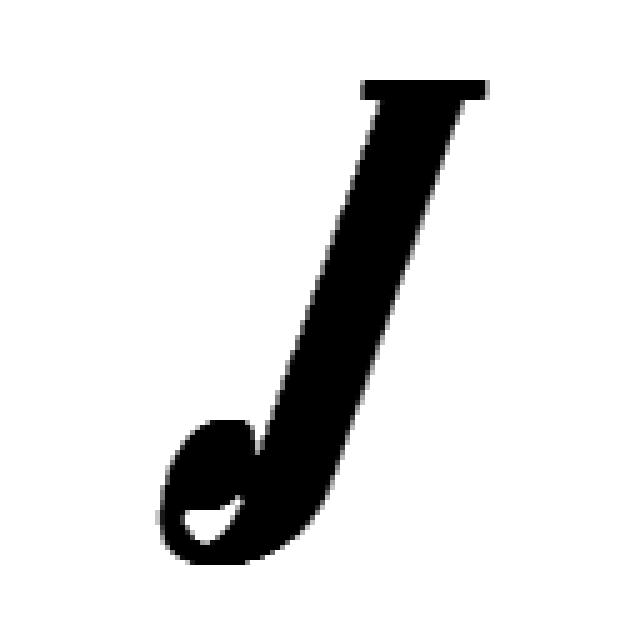J: (150, 70, 490, 570)
